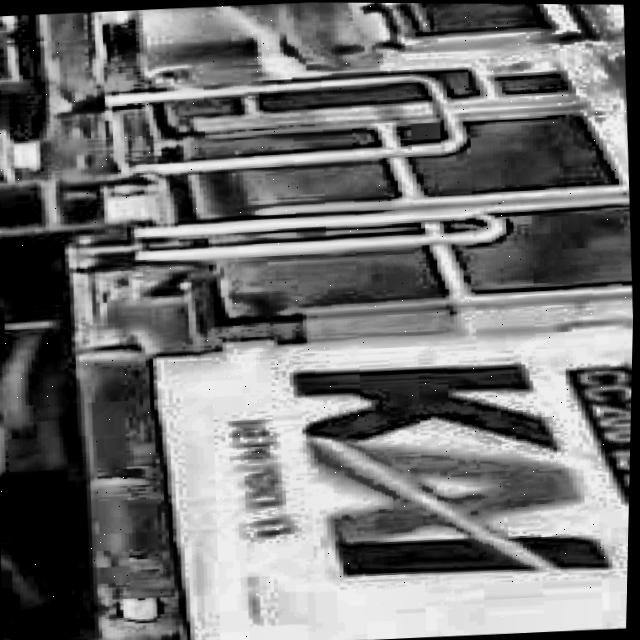Lokomotif: (0, 2, 635, 640)
